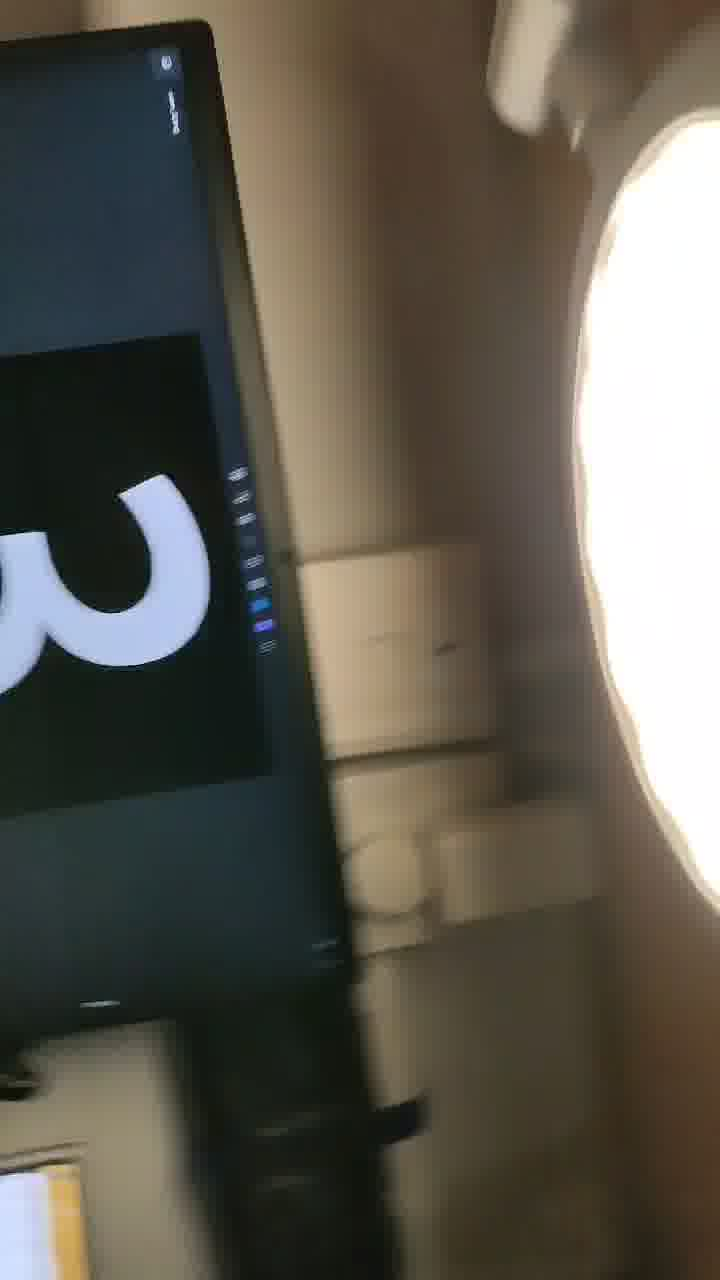three: (1, 389, 241, 739)
